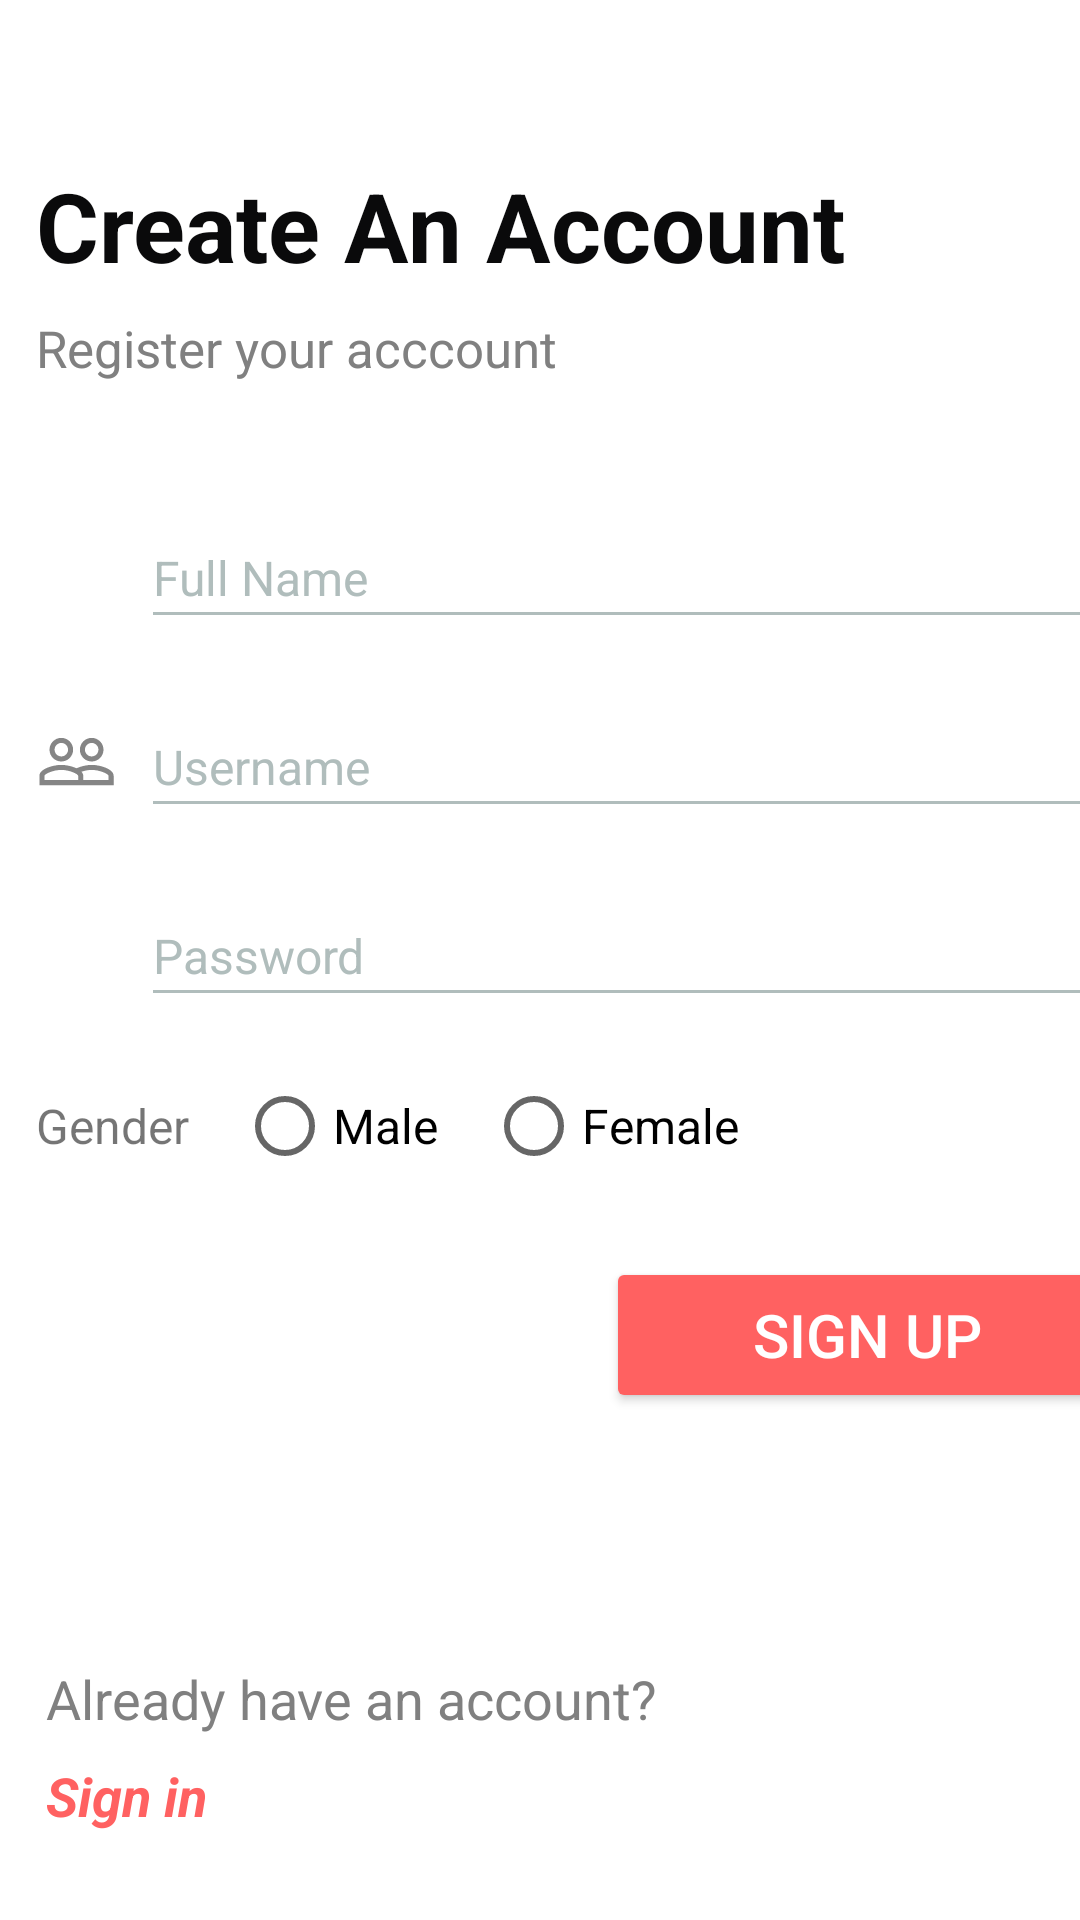

Screen size 1080w x 1920h. Icon name, then its center in pixels as (x=x, y=y):
login user: (x=76, y=762)
